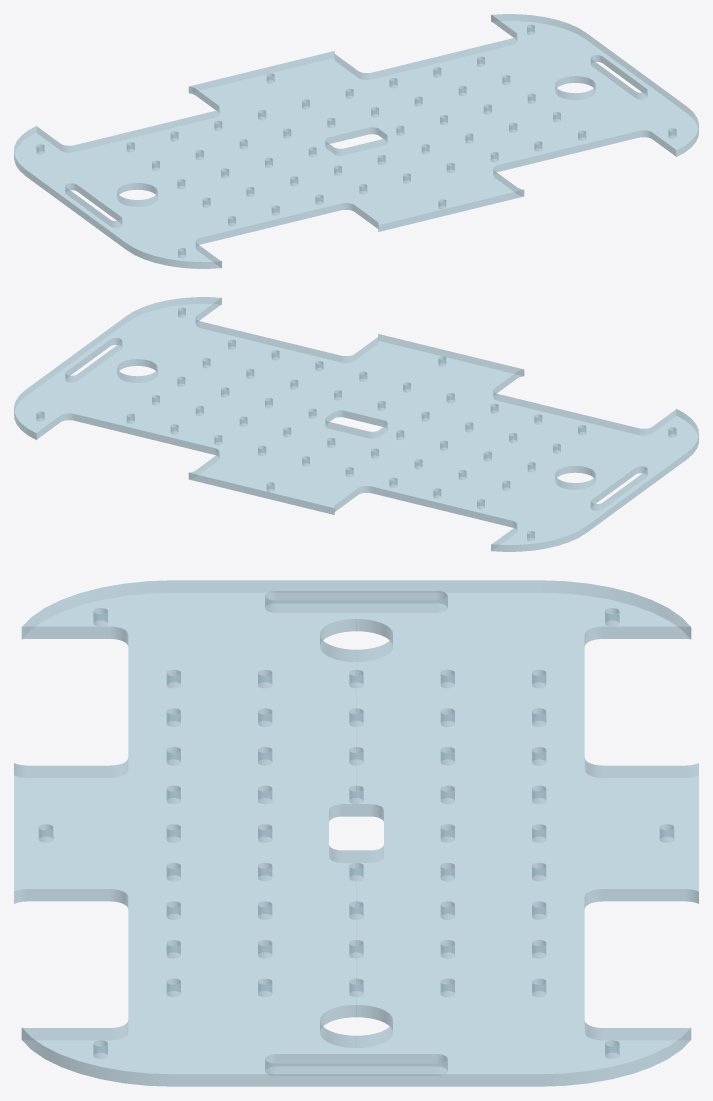
The model's file is placa_superior.glb.
3 renders of one model, top to bottom at view 1: azimuth 30°, elevation 25°; view 2: azimuth 150°, elevation 25°; view 3: azimuth 270°, elevation 25°, orthographic. The views are drawn at different scales.
Visible parts, largest first — view 1: placa; view 2: placa; view 3: placa.
Boxes of the visible parts, bbox=[...] form: placa: bbox=[14, 14, 698, 268]; placa: bbox=[14, 297, 698, 551]; placa: bbox=[14, 580, 698, 1086].
Size of the model in its own units: 256 by 3 by 150.
